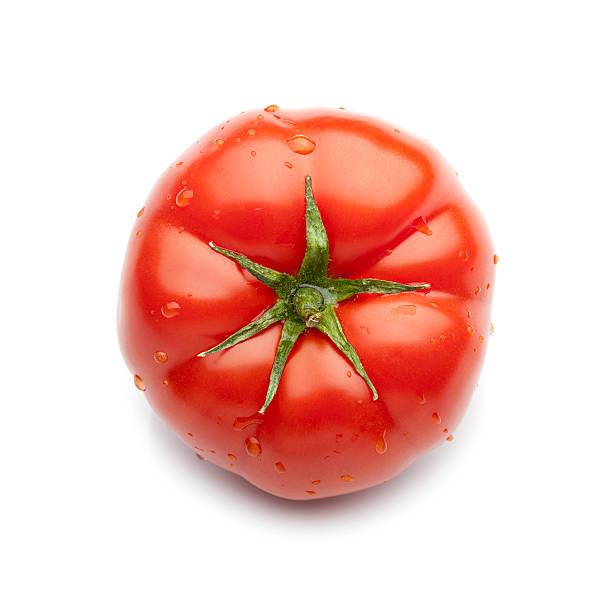Tomato: (112, 99, 496, 503)
